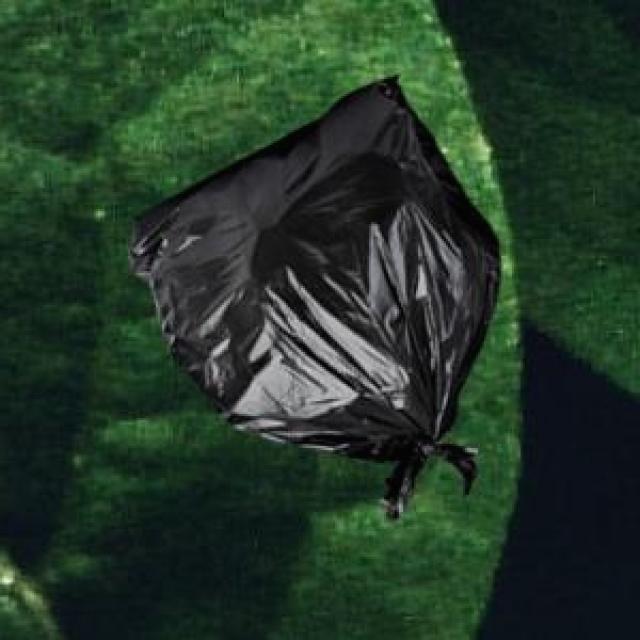Trashbag: (118, 72, 524, 534)
